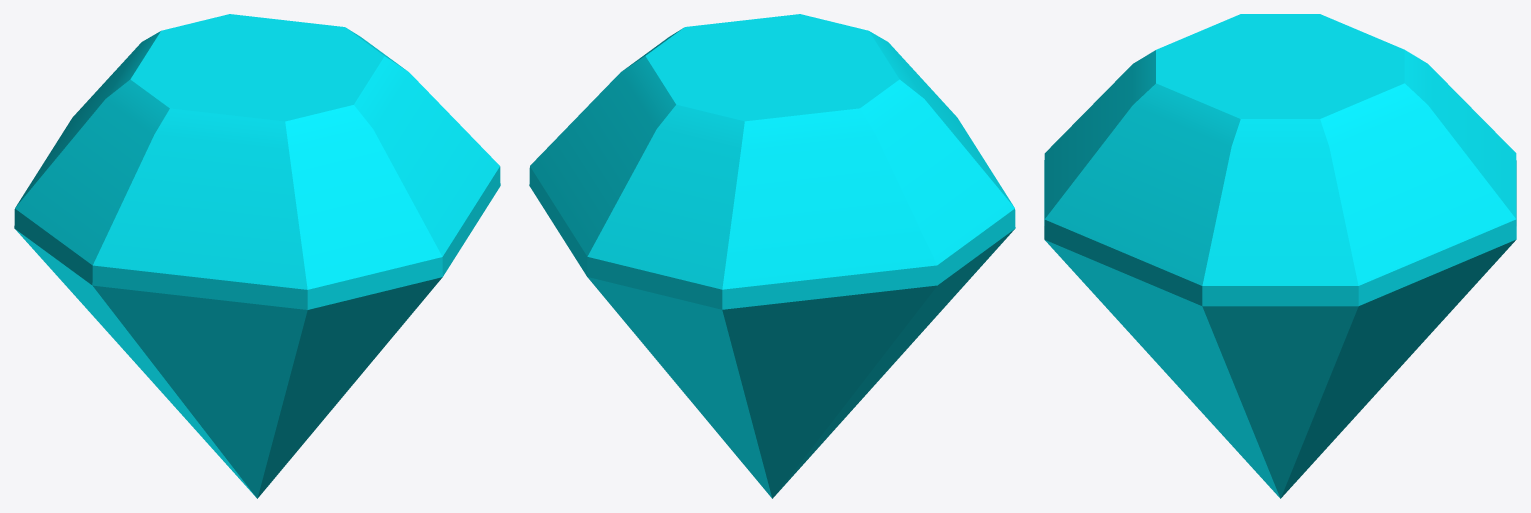
Rendered from Gem_Green.fbx.
3 views of the same model, side by side, from view 1: azimuth 30°, elevation 25°; view 2: azimuth 150°, elevation 25°; view 3: azimuth 270°, elevation 25° (orthographic).
Visible parts, largest first — view 1: Gem_Green; view 2: Gem_Green; view 3: Gem_Green.
Part boxes in pixels (x1=…): Gem_Green: x1=14, y1=14, x2=500, y2=498; Gem_Green: x1=529, y1=14, x2=1015, y2=498; Gem_Green: x1=1044, y1=14, x2=1516, y2=498.
Bounding box in the file's own units: 150 × 151 × 150.
